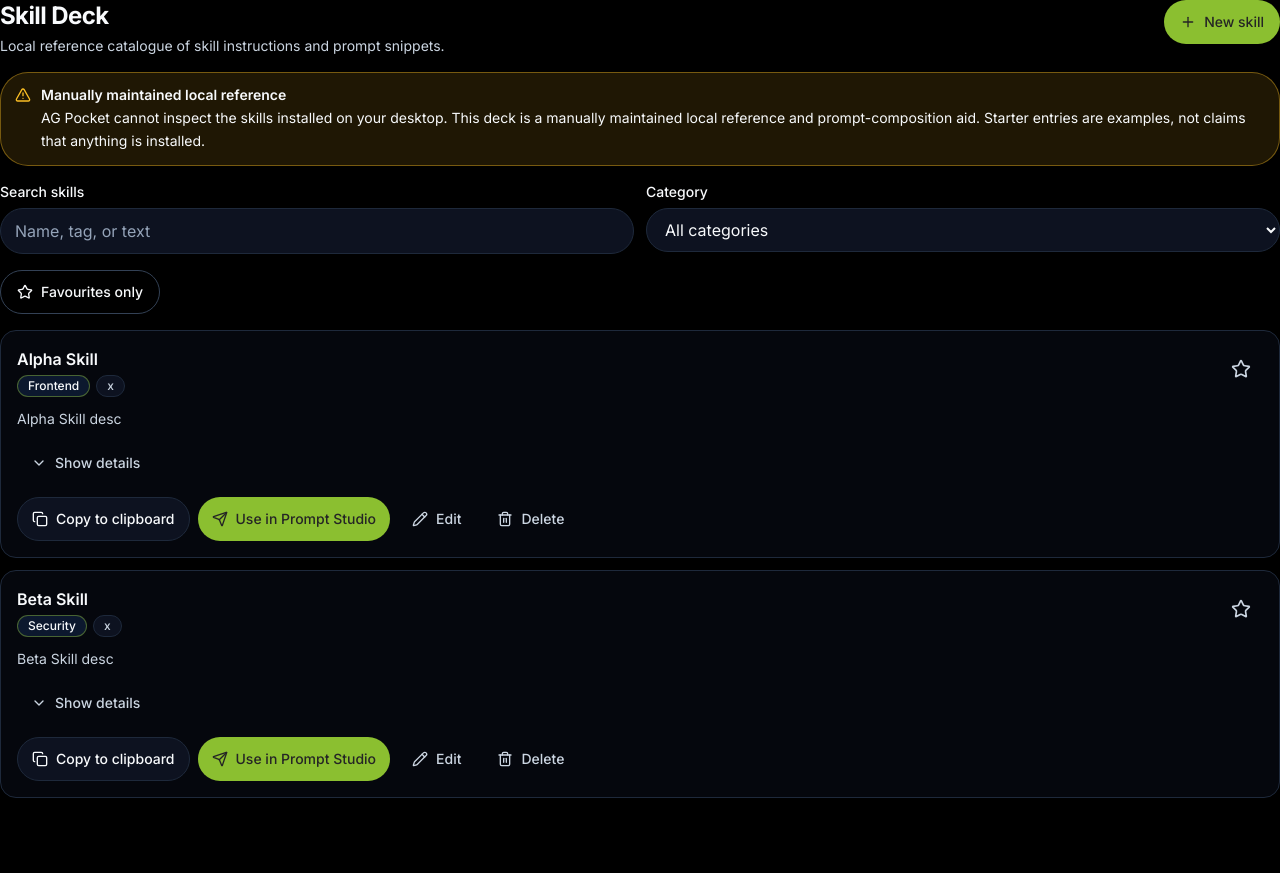
SkillDeckPage › shows details, copies with skill activity feedback, and injects into PromptStudioPage
Check: the heading "Alpha Skill" is shown, box [17,348,98,368]
Click the button with aria-label "Show details for Alpha Skill" at (86, 462), box [17,440,154,484]
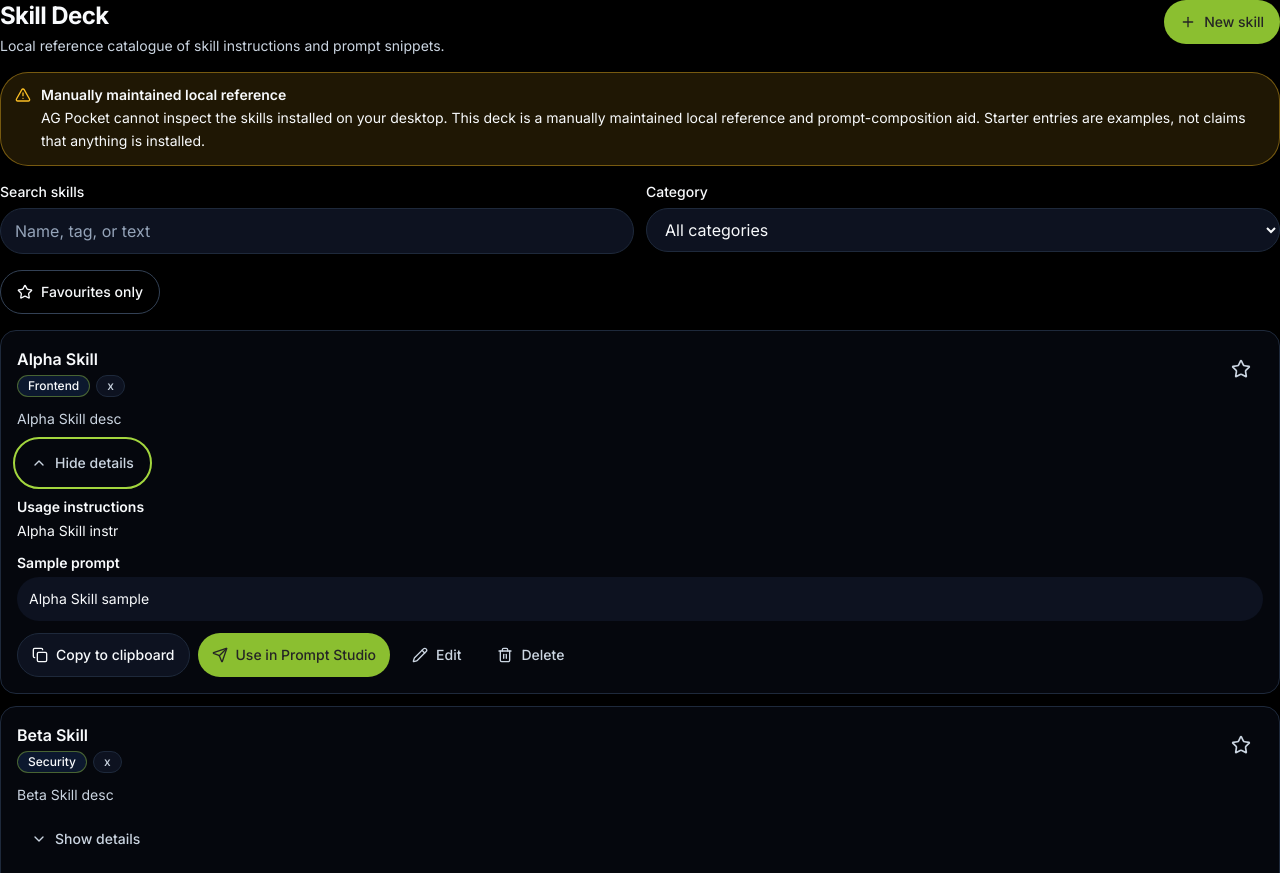
Check: the text "Alpha Skill instr" is shown, box [17,522,118,538]
Click the button with aria-label "Copy Alpha Skill to clipboard" at (103, 654), box [17,632,190,676]
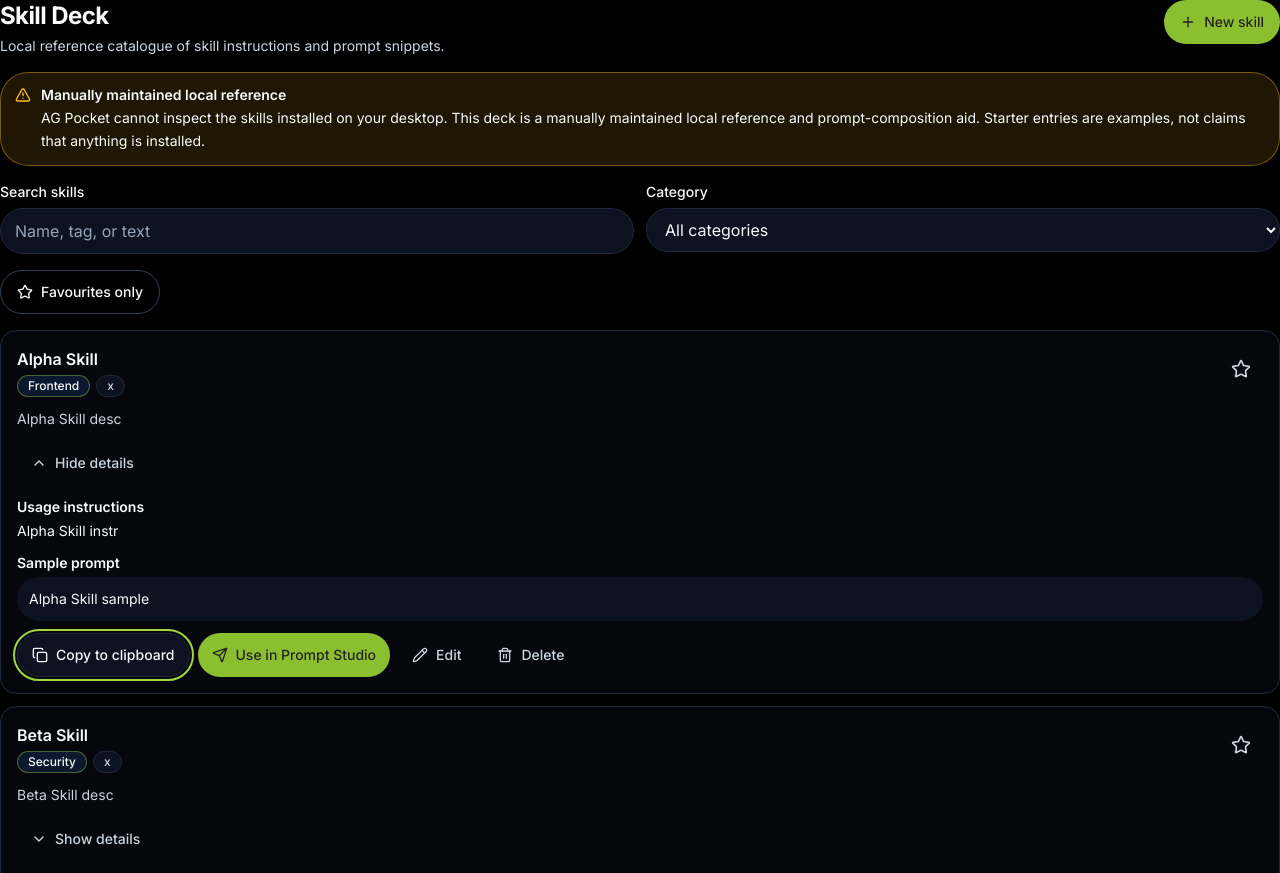
Click the button with aria-label "Use Alpha Skill in Prompt Studio" at (294, 654), box [198,632,390,676]
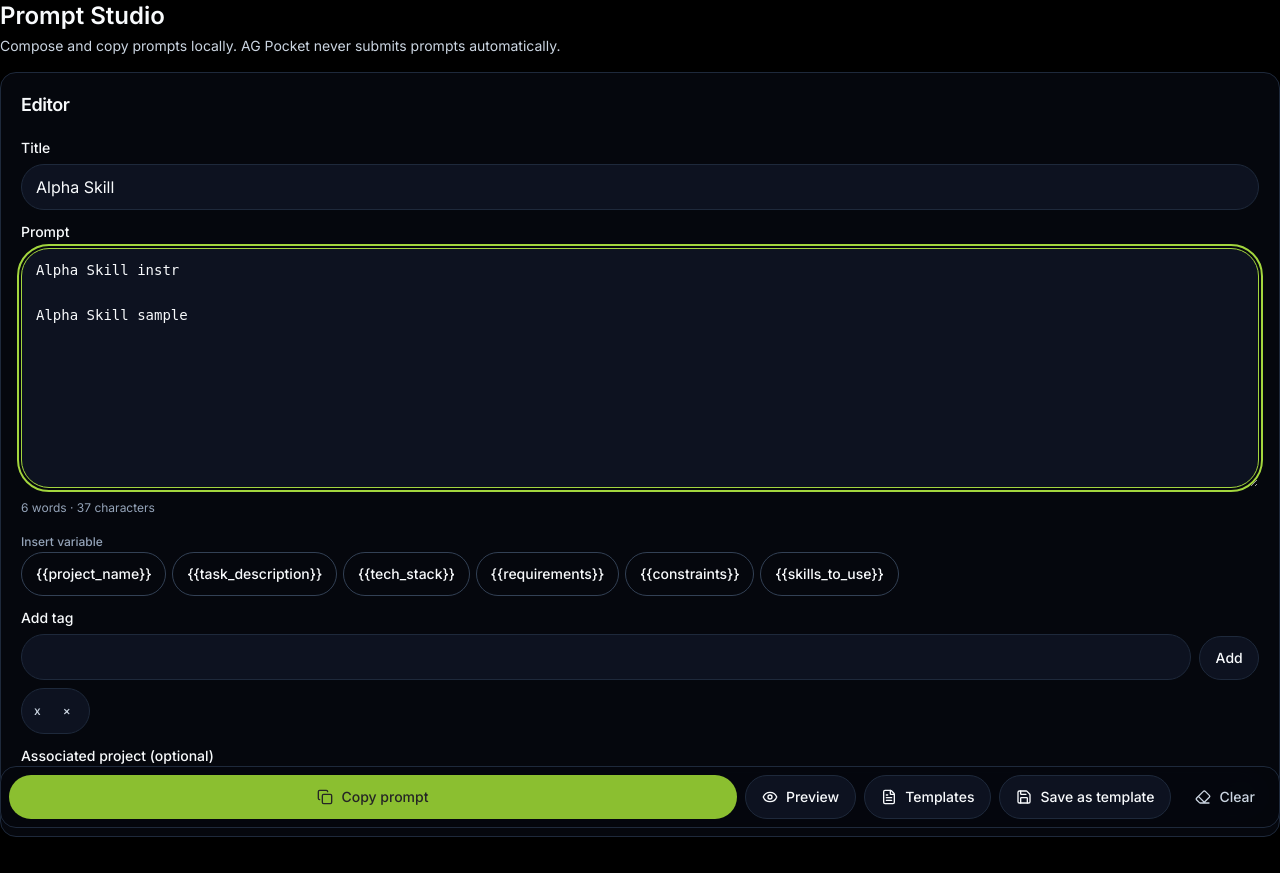
Check: the text "x" is shown, box [34,703,41,719]
Check: the field labelled "Title" holds "Alpha Skill", box [21,164,1259,210]
